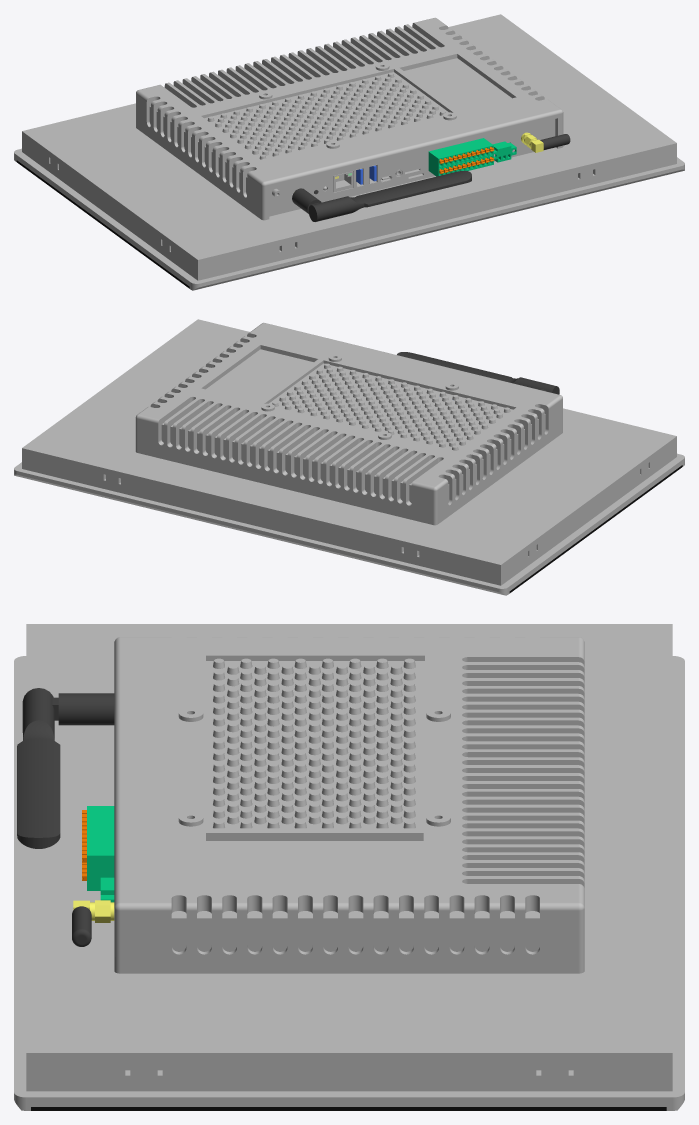
Rendered from PPC-CM4-156.fbx.
The picture shows the model from 3 angles, top to bottom: view 1: azimuth 30°, elevation 25°; view 2: azimuth 150°, elevation 25°; view 3: azimuth 270°, elevation 25°; orthographic projection. The views are drawn at different scales.
Visible parts, largest first — view 1: Part 75, Part 77, Part 73, Part 74, Part 80; view 2: Part 75, Part 77, Part 80; view 3: Part 75, Part 77, Part 80, Part 73.
Boxes of the visible parts, bbox=[...] form: Part 75: bbox=[14, 14, 684, 290]; Part 77: bbox=[292, 134, 570, 221]; Part 73: bbox=[428, 138, 516, 176]; Part 74: bbox=[439, 147, 494, 173]; Part 80: bbox=[16, 160, 189, 288]; Part 75: bbox=[14, 319, 684, 595]; Part 77: bbox=[397, 352, 559, 394]; Part 80: bbox=[509, 465, 682, 593]; Part 75: bbox=[14, 624, 684, 1110]; Part 77: bbox=[17, 688, 114, 946]; Part 80: bbox=[31, 1107, 666, 1110]; Part 73: bbox=[87, 806, 114, 902].
Bounding box in the file's own units: 42.2 × 5.53 × 27.1.
